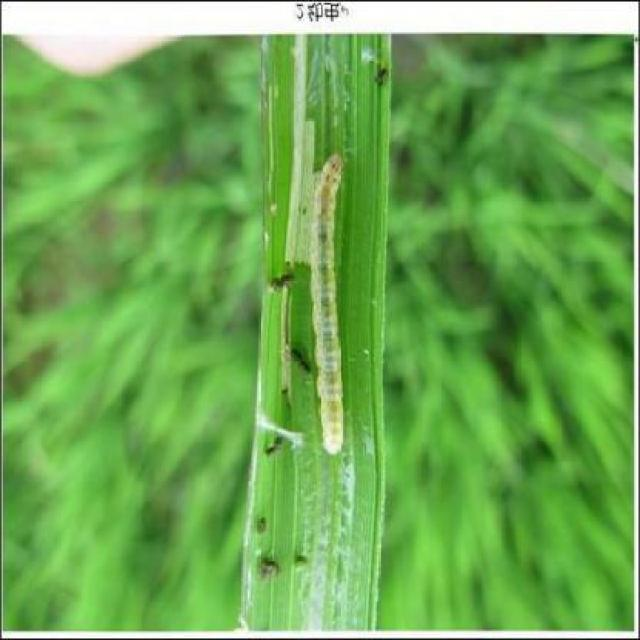leaf-folder: (290, 122, 361, 472)
